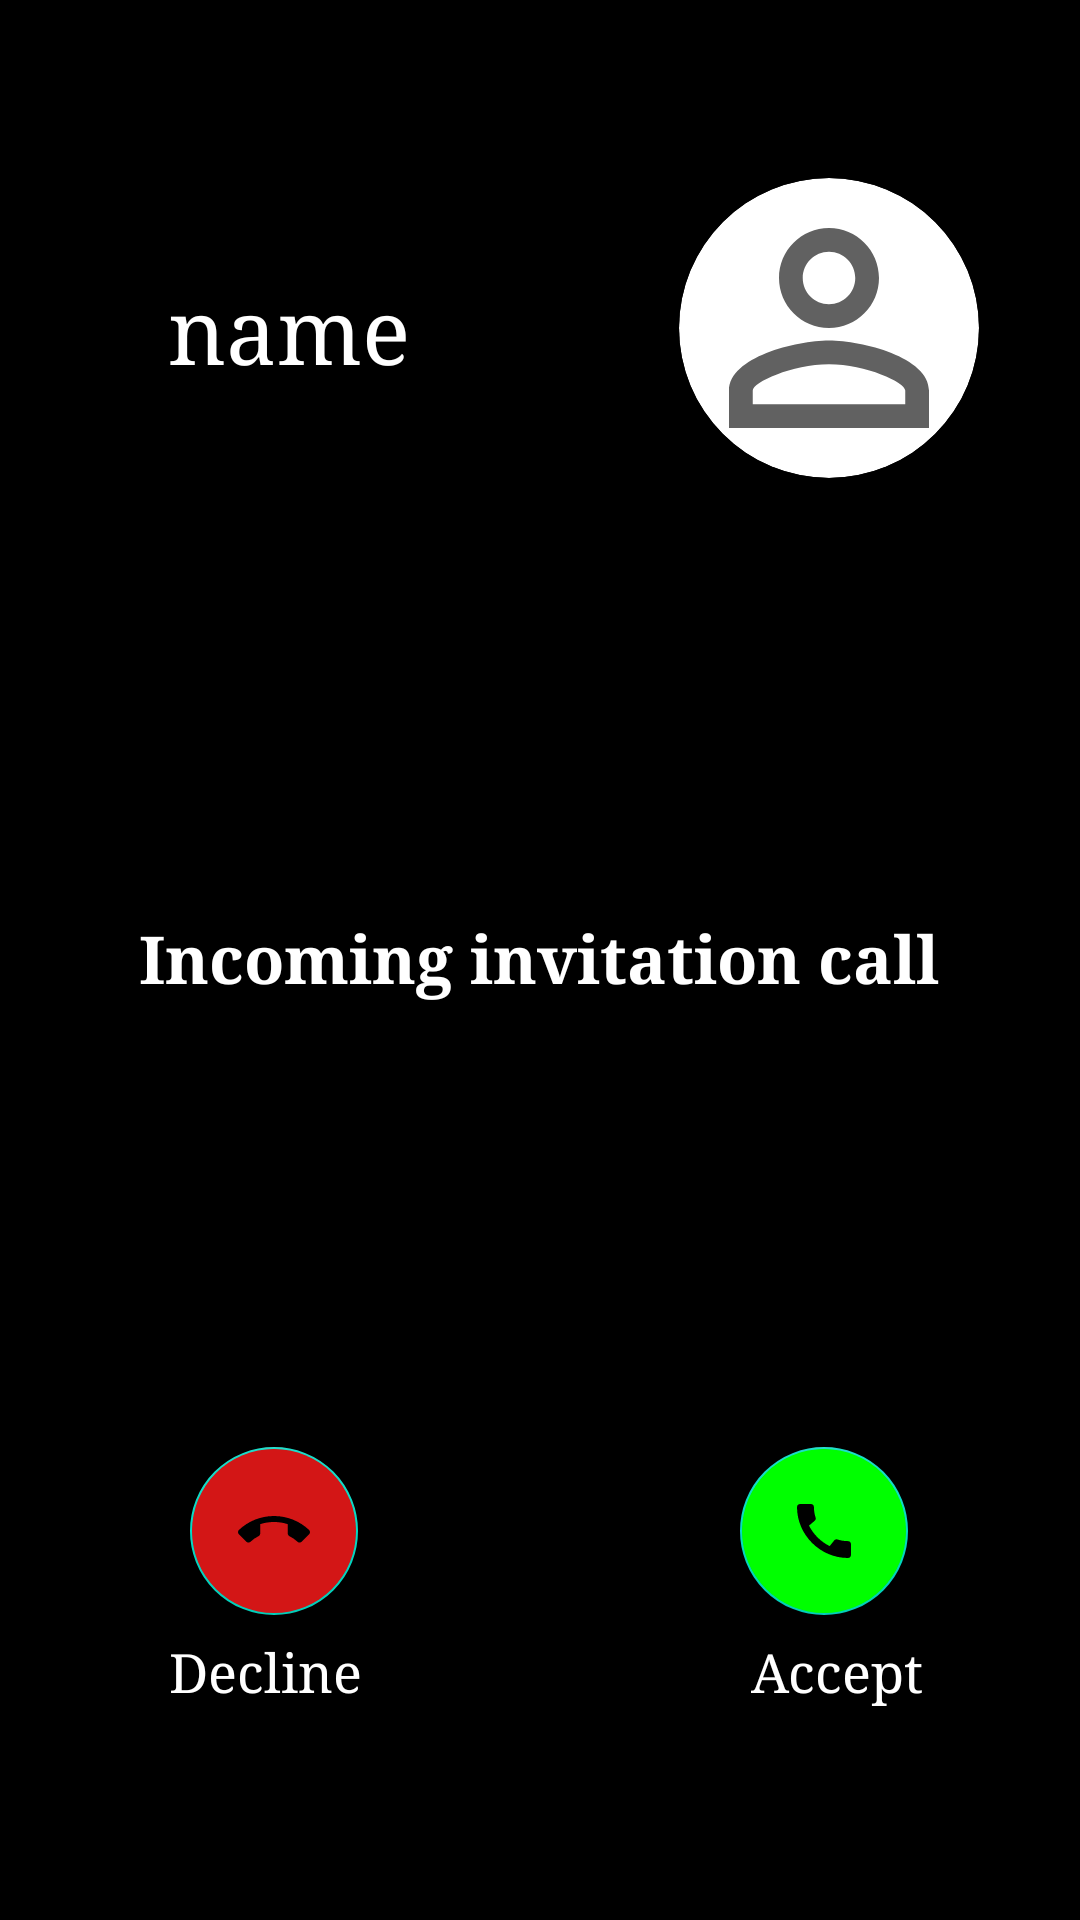

Named icons in this screenshot (1080w x 1920h) and their bounding boxes, (x1, y1, x2, y2):
call: (740, 1447, 908, 1615)
call end: (190, 1447, 358, 1615)
person: (679, 178, 979, 478)
